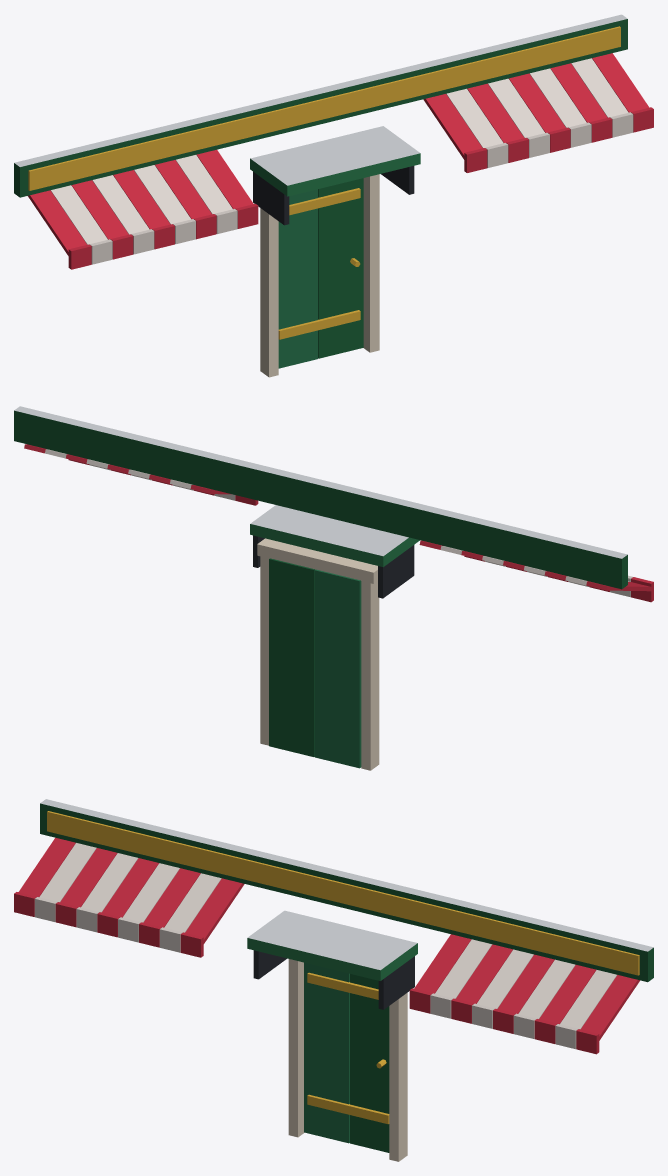
The model's file is Apartment_Shopfront.glb.
The picture shows the model from 3 angles, top to bottom: view 1: azimuth 30°, elevation 25°; view 2: azimuth 150°, elevation 25°; view 3: azimuth 330°, elevation 25°; orthographic projection.
Parts seen in each view (by area): view 1: Apartment_Shopfront; view 2: Apartment_Shopfront; view 3: Apartment_Shopfront.
Boxes of the visible parts, bbox=[...] form: Apartment_Shopfront: bbox=[14, 14, 653, 377]; Apartment_Shopfront: bbox=[14, 406, 653, 770]; Apartment_Shopfront: bbox=[14, 799, 653, 1161].
Bounding box in the file's own units: 29.2 × 12.43 × 4.02.
